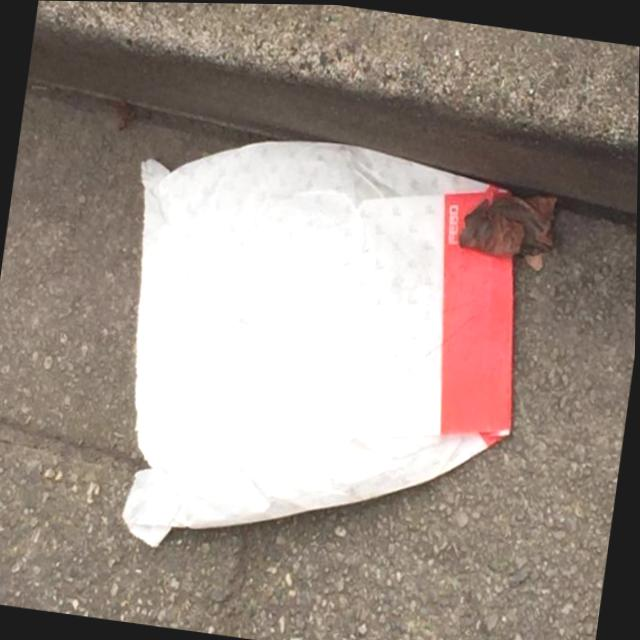Paper: (85, 110, 550, 597)
